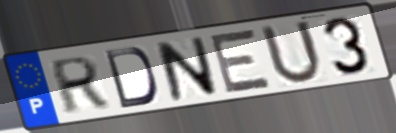3: (320, 14, 373, 78)
D: (102, 45, 159, 111)
E: (208, 27, 275, 96)
N: (153, 34, 221, 104)
R: (49, 53, 111, 117)
U: (257, 18, 325, 87)
